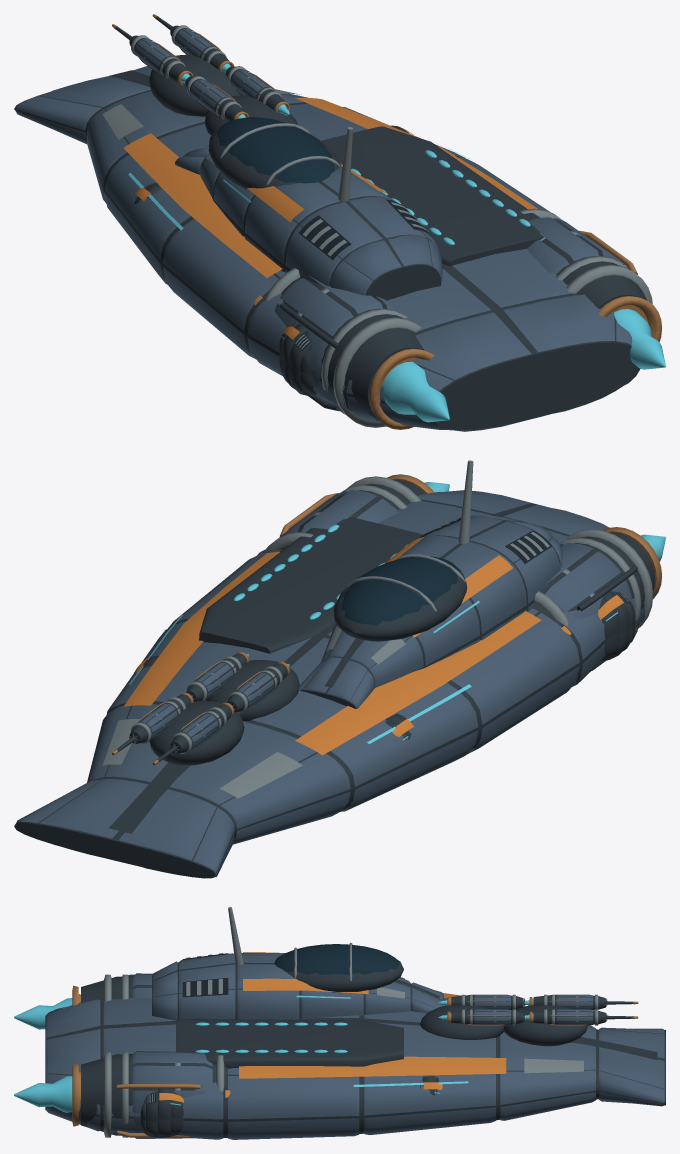
The model's file is escort.glb.
3 renders of one model, top to bottom at view 1: azimuth 30°, elevation 25°; view 2: azimuth 150°, elevation 25°; view 3: azimuth 270°, elevation 25°, orthographic. The views are drawn at different scales.
Visible parts, largest first — view 1: escort; view 2: escort; view 3: escort.
Boxes of the visible parts, x1,y1,x2,y2 form: escort: (14, 14, 665, 431); escort: (14, 460, 665, 878); escort: (14, 907, 665, 1139).
Size of the model in its own units: 7.21 by 4.73 by 16.18.
